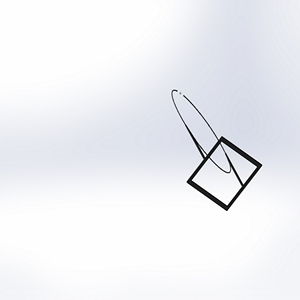circle: (168, 87, 264, 210)
